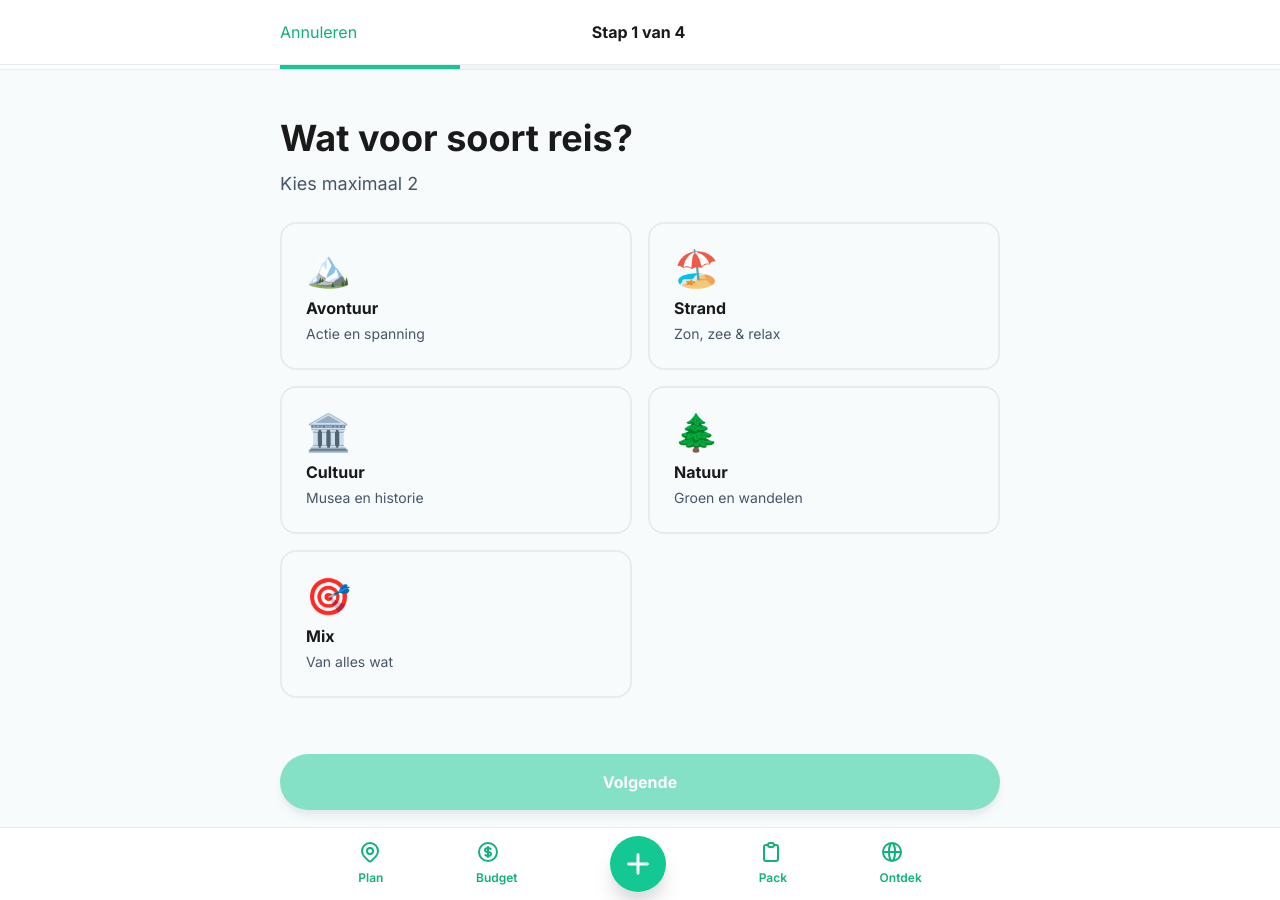
NewTripPage › advances to step 2 when trip type is selected
Click the text "Avontuur": [342, 308] box top-left (306, 298), bottom-right (378, 318)
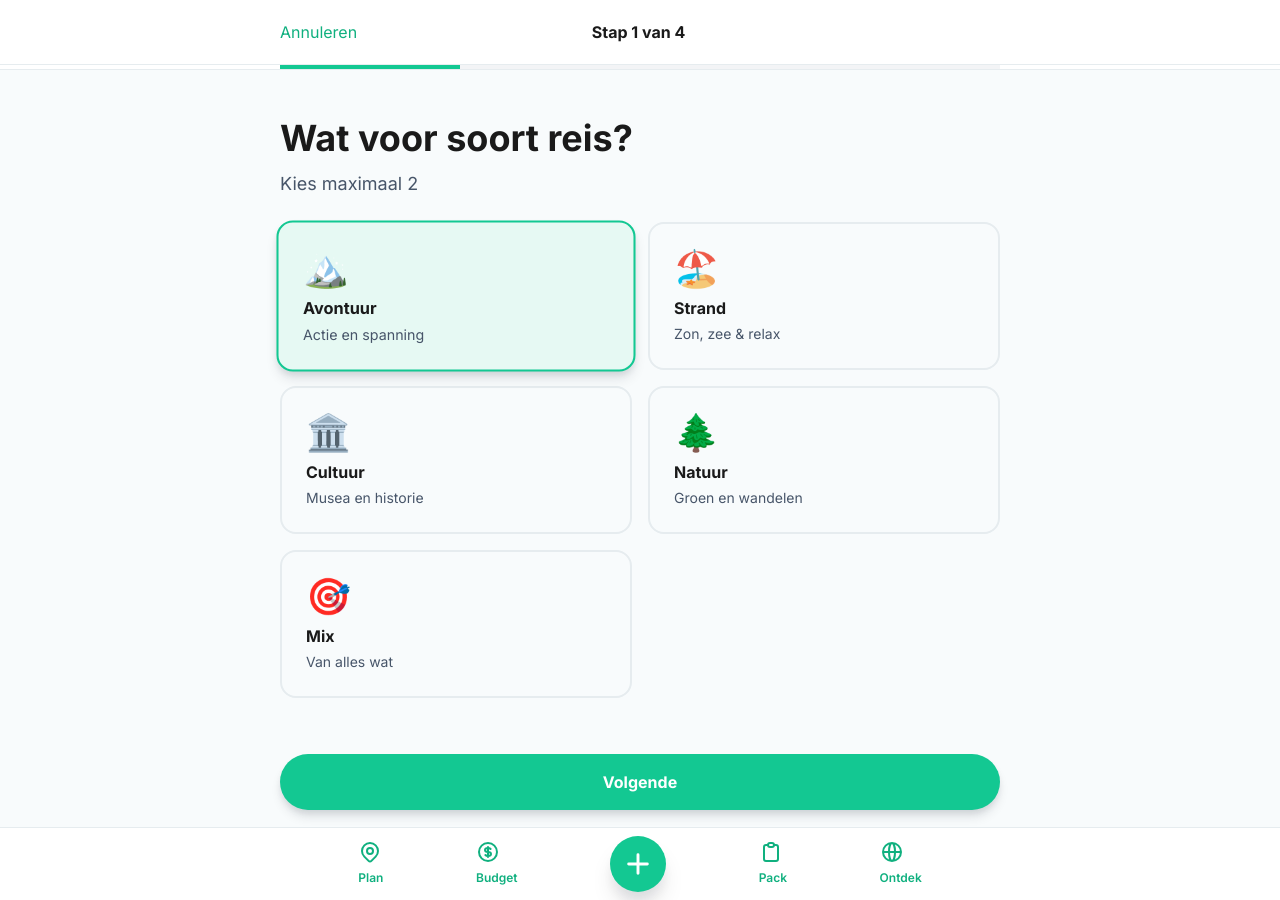
Click the button "Volgende": [640, 782] box top-left (280, 754), bottom-right (1000, 810)
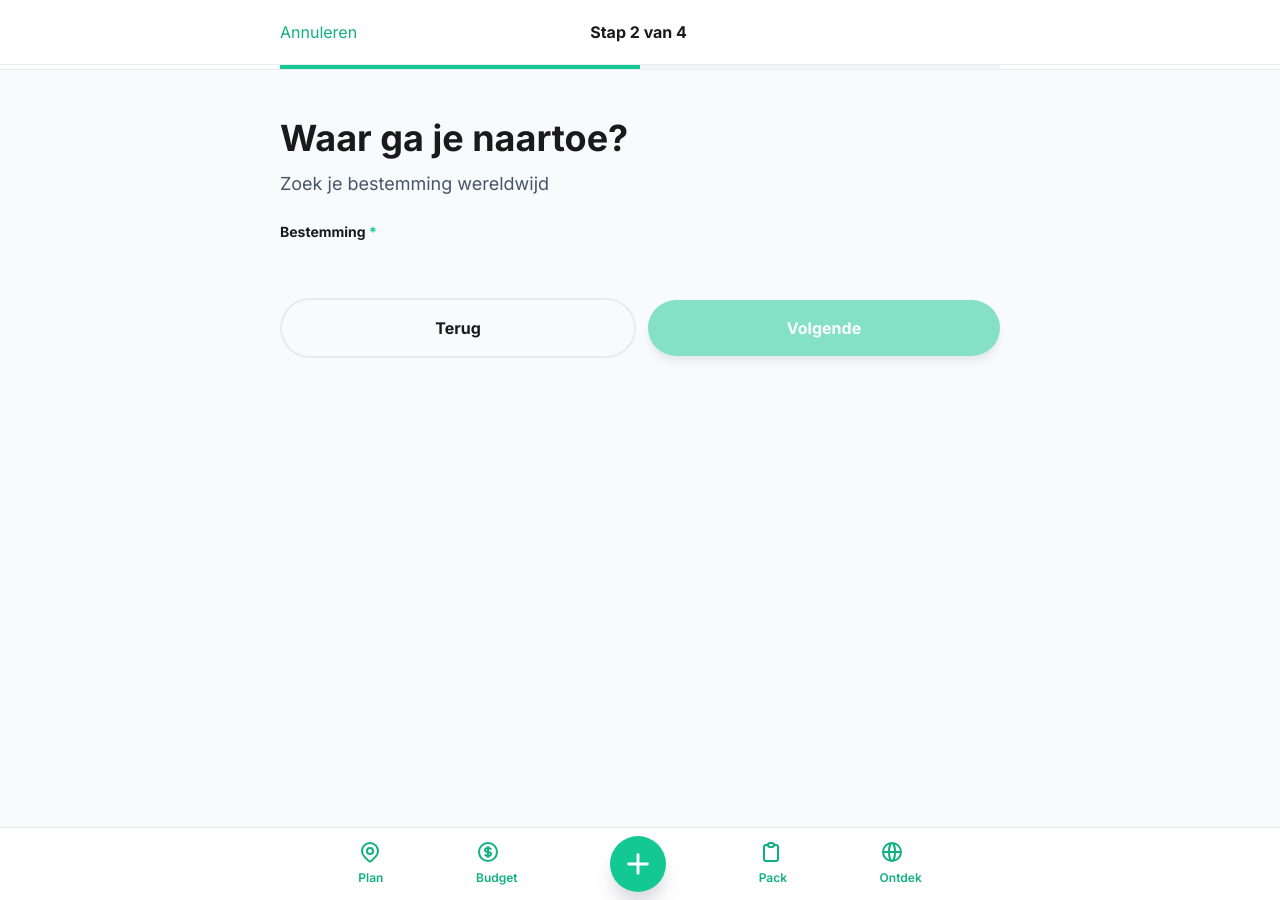
Check: the heading "Waar ga je naartoe?" is shown, box top-left (280, 116), bottom-right (628, 160)
